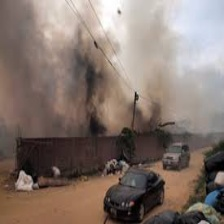smoke: (13, 22, 121, 135)
